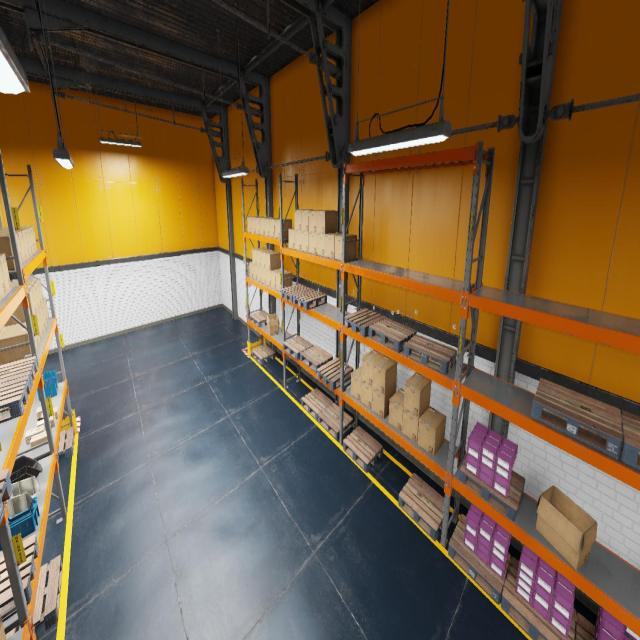box: (536, 486, 597, 570), (417, 406, 446, 457), (3, 288, 37, 326), (404, 372, 431, 418), (0, 322, 39, 351), (0, 328, 31, 364), (402, 406, 429, 444), (0, 227, 35, 254), (0, 226, 37, 251), (373, 356, 397, 394), (0, 230, 30, 260), (0, 228, 32, 256), (11, 278, 44, 305), (11, 282, 41, 310), (372, 385, 396, 419), (362, 350, 384, 387), (0, 231, 26, 262), (0, 232, 23, 264), (388, 388, 404, 433), (334, 234, 357, 260), (0, 235, 16, 270), (317, 210, 337, 233), (0, 253, 11, 294), (325, 232, 342, 258), (36, 410, 56, 430), (26, 285, 39, 315), (25, 425, 45, 444), (351, 366, 361, 402), (308, 210, 324, 232), (294, 209, 310, 231), (274, 219, 292, 238), (276, 270, 292, 291), (361, 380, 372, 410), (270, 269, 286, 289), (265, 251, 281, 270), (302, 210, 316, 231), (30, 431, 47, 448), (36, 402, 54, 418), (266, 313, 279, 335), (269, 219, 284, 237), (260, 250, 274, 269), (256, 249, 270, 267), (264, 218, 278, 236), (252, 248, 266, 265), (260, 218, 274, 235), (0, 261, 6, 300), (247, 216, 261, 232), (41, 406, 59, 418), (256, 217, 268, 234), (251, 216, 262, 234), (39, 306, 46, 334), (316, 233, 324, 256), (301, 231, 309, 253), (37, 311, 43, 340), (0, 613, 6, 639), (44, 298, 50, 324), (36, 316, 41, 347), (309, 232, 316, 254), (288, 228, 295, 249), (42, 302, 47, 328), (295, 230, 301, 251), (261, 268, 266, 284), (266, 269, 270, 287), (257, 266, 261, 282), (253, 264, 257, 280), (249, 262, 253, 278)
pallets: (531, 378, 623, 459), (500, 556, 576, 640), (448, 514, 510, 604), (5, 555, 62, 638), (459, 458, 525, 522), (398, 473, 450, 540), (0, 534, 39, 622), (404, 334, 457, 375), (342, 426, 382, 472), (368, 318, 416, 352), (0, 376, 31, 423), (318, 402, 353, 440), (344, 308, 386, 337), (0, 356, 38, 388), (317, 357, 353, 390), (620, 411, 640, 469), (301, 388, 333, 421), (300, 345, 333, 373), (283, 336, 313, 360), (0, 469, 13, 524), (292, 289, 326, 310), (57, 426, 75, 460), (280, 284, 312, 302), (574, 612, 594, 640), (252, 345, 275, 364), (250, 311, 270, 327)
